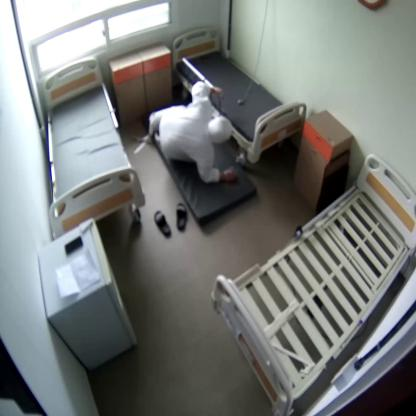Person: (148, 81, 238, 181)
